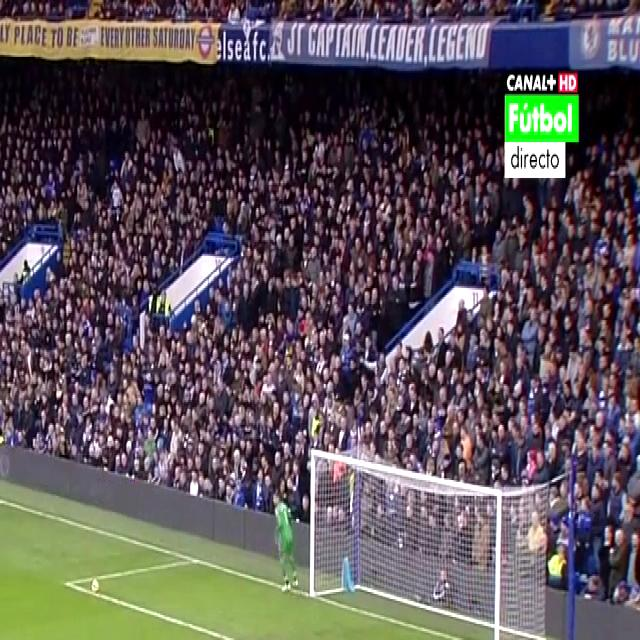goalkeeper: (268, 478, 302, 602)
